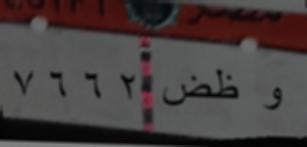2: (120, 69, 137, 101)
6: (80, 69, 105, 102), (45, 68, 68, 103)
7: (10, 67, 35, 98)
Thaa: (213, 65, 240, 107)
daad: (162, 73, 211, 111)
waw: (260, 83, 287, 115)
